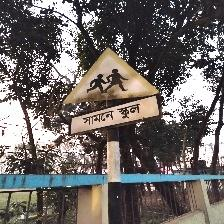School-in-front: (62, 47, 162, 137)
